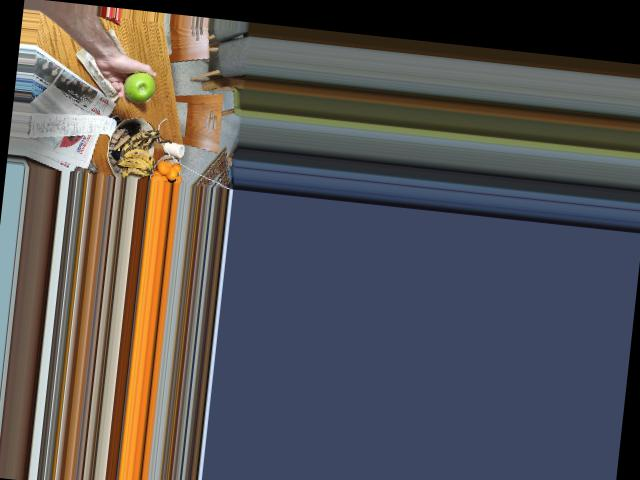apple: (117, 71, 163, 103)
